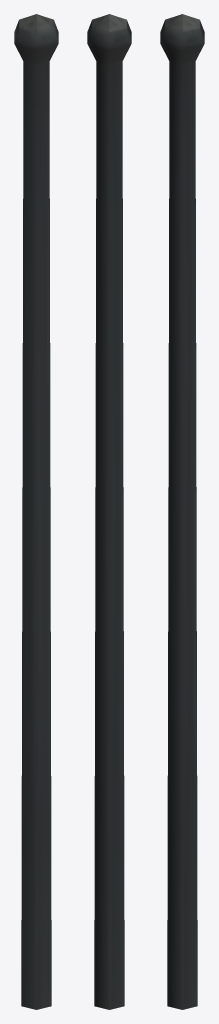
File: pirate_flag_pole_b.fbx
3 views of the same model, side by side, from view 1: azimuth 30°, elevation 25°; view 2: azimuth 150°, elevation 25°; view 3: azimuth 330°, elevation 25° (orthographic).
Parts seen in each view (by area): view 1: pirate_flag_pole_b; view 2: pirate_flag_pole_b; view 3: pirate_flag_pole_b.
Part boxes in pixels (left/top/right/bottom): pirate_flag_pole_b: left=14, top=14, right=58, bottom=1009; pirate_flag_pole_b: left=87, top=14, right=131, bottom=1009; pirate_flag_pole_b: left=160, top=14, right=204, bottom=1009.
Bounding box in the file's own units: 58.86 × 1246 × 50.97.
1 material, 1 textured.
